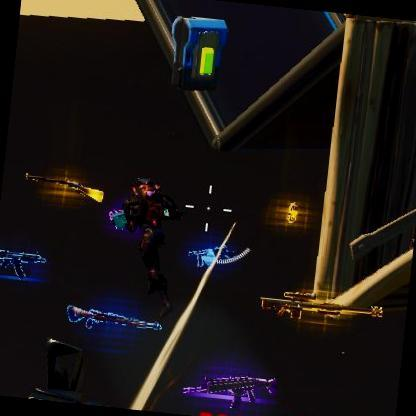person: (118, 174, 186, 294), (137, 225, 167, 272)
